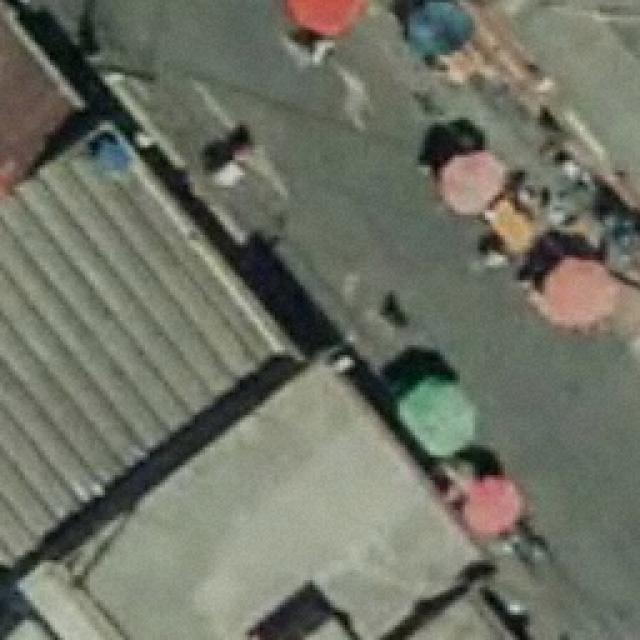vendedor_ambulante: (394, 373, 484, 461), (538, 252, 626, 328), (435, 146, 512, 217), (456, 472, 528, 538), (402, 2, 476, 57), (280, 0, 375, 35)
